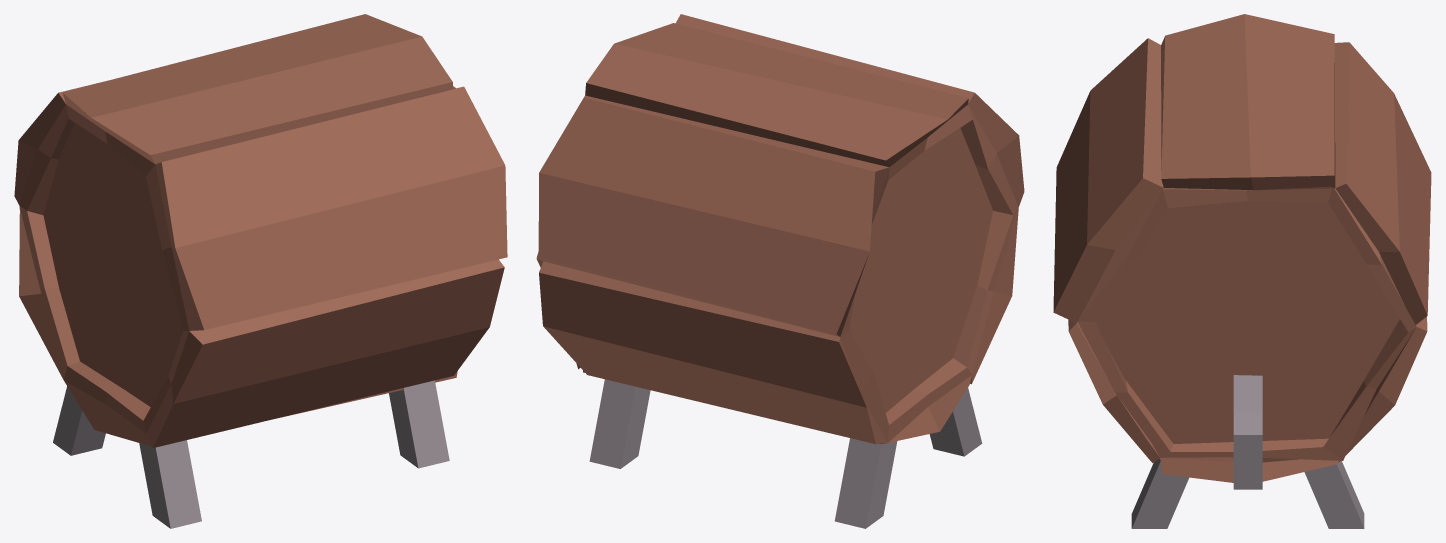
Rendered from SmallFût.fbx.
3 views of the same model, side by side, from view 1: azimuth 30°, elevation 25°; view 2: azimuth 150°, elevation 25°; view 3: azimuth 270°, elevation 25° (orthographic).
Parts seen in each view (by area): view 1: Cube.079; view 2: Cube.079; view 3: Cube.079.
Boxes of the visible parts, x1,y1,x2,y2 form: Cube.079: (14, 14, 507, 528); Cube.079: (536, 14, 1024, 528); Cube.079: (1053, 14, 1431, 528).
Size of the model in its own units: 0.9949 by 0.9104 by 0.8433.
